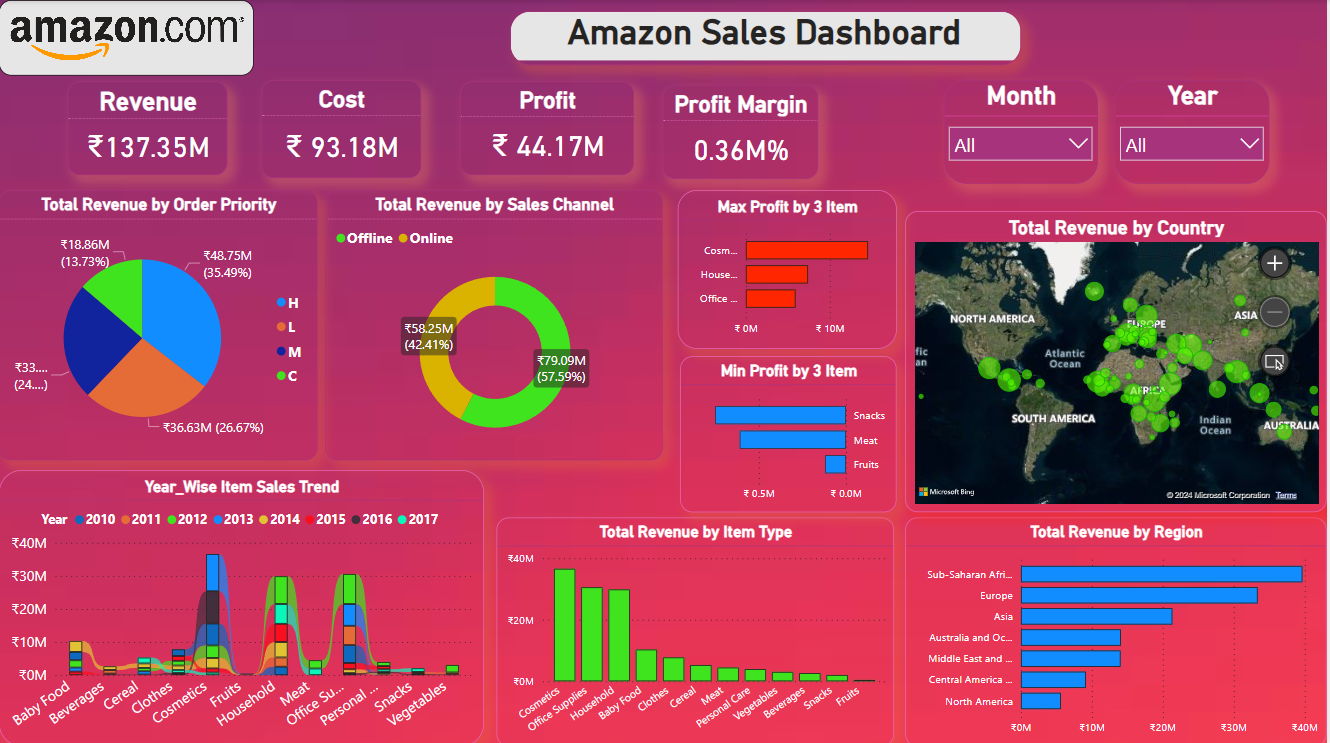

What the dashboard file says about the page in this screenshot:
{"tool":"powerbi","page":{"name":"Page 1","canvas":[1518,853],"ordinal":0},"visuals":[{"type":"image","box":[0,0,291.3,86.3],"z":0},{"type":"card","title":" Revenue","fields":{"Values":["Sum(Amazon Sales data.Total Revenue)"]},"box":[78.1,92.8,182.3,107.4],"z":1000},{"type":"card","title":"Profit","fields":{"Values":["Sum(Amazon Sales data.Total Profit)"]},"box":[527.3,92.8,198.5,107.4],"z":2000},{"type":"card","title":"Cost","fields":{"Values":["Sum(Amazon Sales data.Total Cost)"]},"box":[299.4,91.1,182.3,112.3],"z":3000},{"type":"slicer","title":"Month","fields":{"Values":["Amazon Sales data.Order Date.Variation.Date Hierarchy.Month"]},"box":[1080.6,91.1,175.8,118.8],"z":4000},{"type":"pieChart","title":"Total Revenue by Order Priority","fields":{"Y":["Sum(Amazon Sales data.Total Revenue)"],"Category":["Amazon Sales data.Order Priority"]},"box":[0,217.2,364.3,308.6],"z":6000},{"type":"donutChart","title":"Total Revenue by Sales Channel","fields":{"Y":["Sum(Amazon Sales data.Total Revenue)"],"Category":["Amazon Sales data.Sales Channel"]},"box":[372.9,217.2,385.8,308.6],"z":7000},{"type":"columnChart","title":"Total Revenue by Item Type","fields":{"Category":["Amazon Sales data.Item Type"],"Y":["Sum(Amazon Sales data.Total Revenue)"]},"box":[568.7,591.5,454.4,261.5],"z":9000},{"type":"ribbonChart","title":"Year_Wise Item  Sales Trend","fields":{"Category":["Amazon Sales data.Item Type"],"Y":["Sum(Amazon Sales data.Total Revenue)"],"Series":["Amazon Sales data.Order Date.Variation.Date Hierarchy.Year"]},"box":[0,537.2,554.4,315.8],"z":10000},{"type":"clusteredBarChart","title":"Max Profit by 3 Item","fields":{"Category":["Amazon Sales data.Item Type"],"Y":["Sum(Amazon Sales data.Total Profit)"]},"box":[775.8,217.2,250,181.5],"z":11000},{"type":"clusteredBarChart","title":"Min Profit by 3 Item","fields":{"Category":["Amazon Sales data.Item Type"],"Y":["Sum(Amazon Sales data.Total Profit)"]},"box":[778.7,407.2,247.2,178.6],"z":12000},{"type":"card","title":"Profit Margin","fields":{"Values":["Sum(Amazon Sales data.Profit Margin)"]},"box":[758.4,97.6,177.4,107.4],"z":14000},{"type":"textbox","title":"Amazon Sales Dashboard","box":[584.2,13,584.2,61.8],"z":15000},{"type":"clusteredBarChart","title":"Total Revenue by Region","fields":{"Category":["Amazon Sales data.Region"],"Y":["Sum(Amazon Sales data.Total Revenue)"]},"box":[1035.9,591.5,481.5,261.5],"z":15001},{"type":"slicer","title":"Year","fields":{"Values":["Amazon Sales data.Order Date.Variation.Date Hierarchy.Year"]},"box":[1275.9,91.1,175.8,118.8],"z":15002},{"type":"map","title":"Total Revenue by Country","fields":{"Category":["Amazon Sales data.Country"],"Size":["Sum(Amazon Sales data.Total Revenue)"]},"box":[1035.9,241.5,481.5,344.3],"z":15003}]}

Visuals, with their boxes in screenshot pixels (x1, y1, x2, y2), scaled from the page's 1518x853 canvas onto the 1330x743 screenshot:
image: select_region(0, 0, 255, 75)
" Revenue" card: select_region(68, 81, 228, 174)
"Profit" card: select_region(462, 81, 636, 174)
"Cost" card: select_region(262, 79, 422, 177)
"Month" slicer: select_region(947, 79, 1101, 183)
"Total Revenue by Order Priority" pieChart: select_region(0, 189, 319, 458)
"Total Revenue by Sales Channel" donutChart: select_region(327, 189, 665, 458)
"Total Revenue by Item Type" columnChart: select_region(498, 515, 896, 742)
"Year_Wise Item  Sales Trend" ribbonChart: select_region(0, 468, 486, 742)
"Max Profit by 3 Item" clusteredBarChart: select_region(680, 189, 899, 347)
"Min Profit by 3 Item" clusteredBarChart: select_region(682, 355, 899, 510)
"Profit Margin" card: select_region(664, 85, 820, 179)
"Amazon Sales Dashboard" textbox: select_region(512, 11, 1024, 65)
"Total Revenue by Region" clusteredBarChart: select_region(908, 515, 1329, 742)
"Year" slicer: select_region(1118, 79, 1272, 183)
"Total Revenue by Country" map: select_region(908, 210, 1329, 510)
